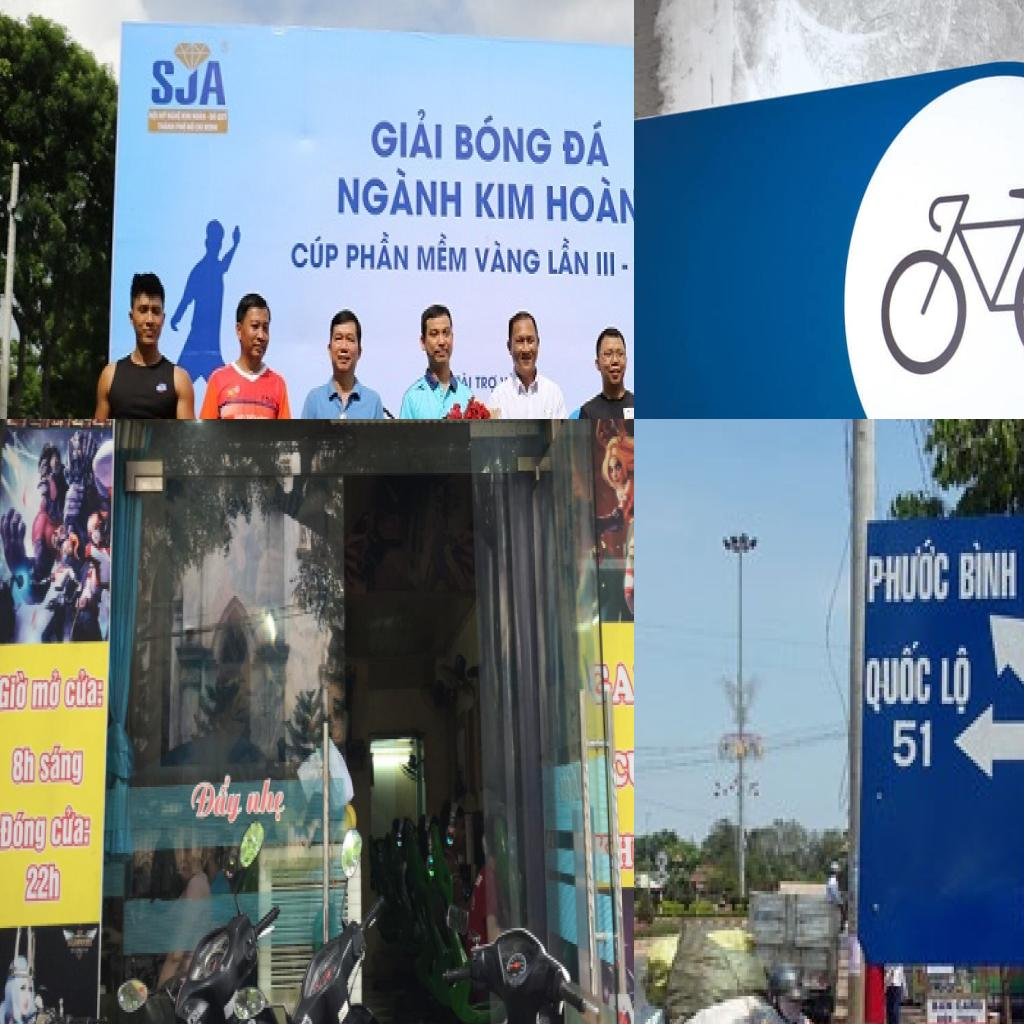text: (338, 166, 464, 221), (867, 537, 952, 612), (864, 632, 934, 720), (456, 112, 553, 166), (545, 172, 634, 225), (956, 536, 1022, 606), (370, 105, 443, 162), (150, 59, 228, 109), (188, 773, 246, 828), (345, 230, 411, 276), (891, 714, 937, 773), (940, 645, 976, 720), (560, 116, 611, 168), (472, 239, 541, 276), (37, 742, 86, 792), (474, 182, 536, 221), (415, 230, 469, 274), (587, 659, 634, 709), (243, 776, 289, 824), (290, 232, 340, 274), (0, 812, 48, 855), (48, 806, 94, 848), (548, 234, 591, 278), (64, 668, 106, 710), (24, 862, 63, 903), (0, 666, 30, 714), (608, 743, 634, 798), (32, 669, 64, 712), (9, 746, 37, 787), (617, 818, 634, 873), (595, 250, 617, 280), (474, 373, 500, 397)
